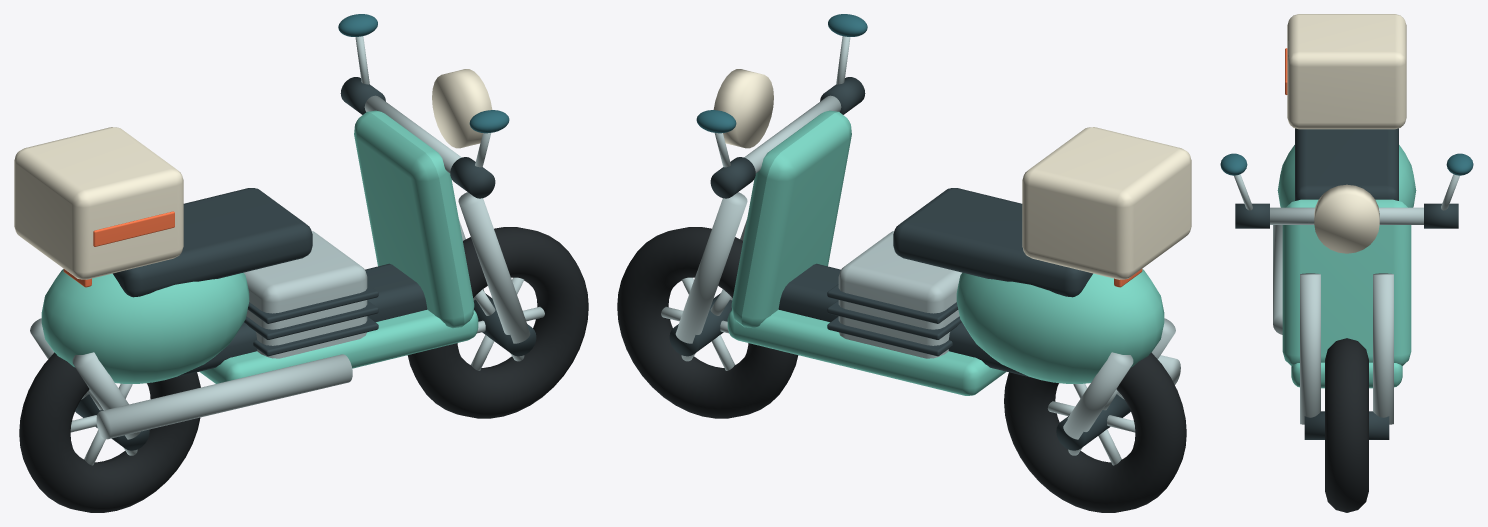
Rendered from scooter.glb.
3 renders of one model, left to right at view 1: azimuth 30°, elevation 25°; view 2: azimuth 150°, elevation 25°; view 3: azimuth 270°, elevation 25°, orthographic. The views are drawn at different scales.
Parts seen in each view (by area): view 1: LR Delivery box, LR Rear cowling, LR Tire.003, LR Leg shield, LR Tire.002, LR Seat.001, LR Engine.001, LR Exhaust.001, LR Step-through deck, LR Fork.006, LR Chassis.001, LR Round headlamp (+12 smaller); view 2: LR Delivery box, LR Rear cowling, LR Tire.003, LR Tire.002, LR Leg shield, LR Seat.001, LR Step-through deck, LR Engine.001, LR Fork.007, LR Chassis.001, LR Round headlamp, LR Fork.005 (+10 smaller); view 3: LR Delivery box, LR Leg shield, LR Tire.003, LR Seat.001, LR Round headlamp, LR Fork.006, LR Fork.007, LR Handlebar.001, LR Rear cowling, LR Exhaust.001, LR Axle.003, LR Grip.002 (+4 smaller).
Part boxes in pixels (bbox=[...]): LR Delivery box: bbox=[14, 127, 183, 279]; LR Rear cowling: bbox=[41, 269, 249, 383]; LR Tire.003: bbox=[407, 227, 588, 418]; LR Leg shield: bbox=[354, 110, 474, 328]; LR Tire.002: bbox=[19, 352, 200, 512]; LR Seat.001: bbox=[113, 188, 312, 297]; LR Engine.001: bbox=[244, 231, 367, 358]; LR Exhaust.001: bbox=[96, 354, 352, 439]; LR Step-through deck: bbox=[199, 309, 478, 383]; LR Fork.006: bbox=[458, 192, 530, 343]; LR Chassis.001: bbox=[158, 263, 427, 381]; LR Round headlamp: bbox=[432, 69, 492, 148]; LR Delivery box: bbox=[1022, 127, 1191, 279]; LR Rear cowling: bbox=[956, 269, 1164, 383]; LR Tire.003: bbox=[617, 227, 798, 418]; LR Tire.002: bbox=[1004, 352, 1186, 512]; LR Leg shield: bbox=[731, 110, 851, 328]; LR Seat.001: bbox=[893, 188, 1092, 297]; LR Step-through deck: bbox=[727, 309, 1006, 395]; LR Engine.001: bbox=[838, 231, 961, 358]; LR Fork.007: bbox=[675, 192, 747, 343]; LR Chassis.001: bbox=[778, 263, 1047, 381]; LR Round headlamp: bbox=[713, 69, 773, 148]; LR Fork.005: bbox=[1063, 352, 1133, 439]; LR Delivery box: bbox=[1287, 14, 1406, 129]; LR Leg shield: bbox=[1282, 199, 1411, 366]; LR Tire.003: bbox=[1325, 338, 1368, 512]; LR Seat.001: bbox=[1295, 128, 1398, 200]; LR Round headlamp: bbox=[1314, 184, 1379, 253]; LR Fork.006: bbox=[1300, 273, 1320, 424]; LR Fork.007: bbox=[1373, 273, 1393, 424]; LR Handlebar.001: bbox=[1270, 207, 1423, 224]; LR Rear cowling: bbox=[1277, 145, 1416, 207]; LR Exhaust.001: bbox=[1273, 225, 1282, 334]; LR Axle.003: bbox=[1304, 411, 1389, 439]; LR Grip.002: bbox=[1235, 203, 1269, 228].
Bounding box in the file's own units: 2.91 × 1.82 × 1.32.
